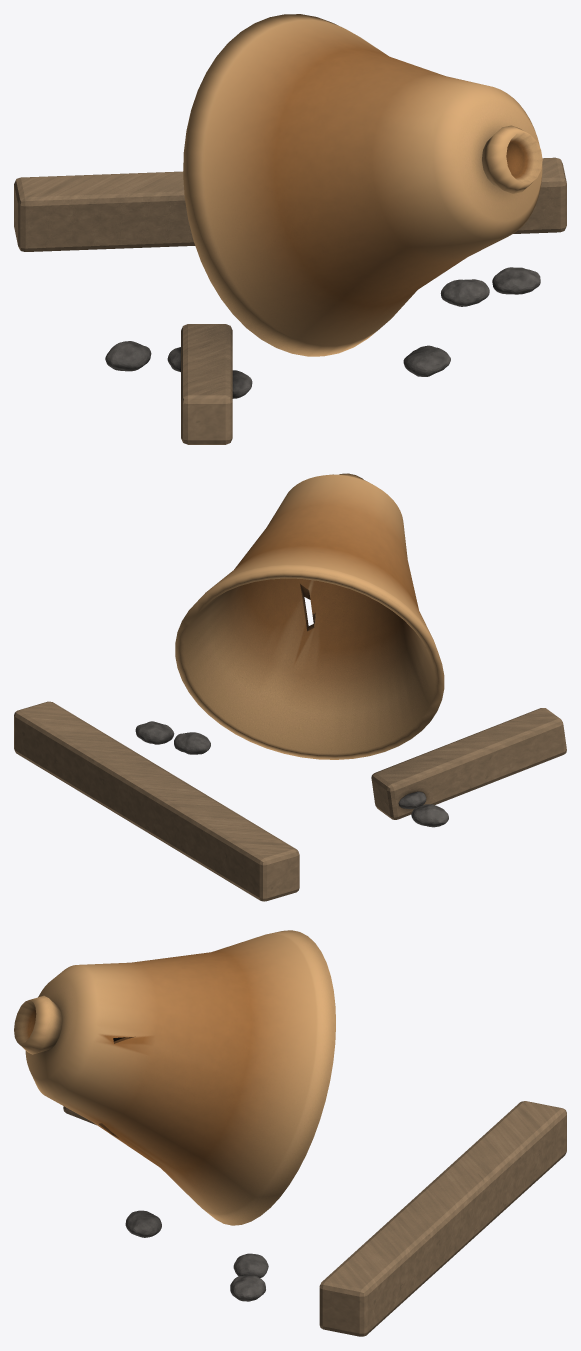
The model's file is dg_sino_rachado.glb.
The picture shows the model from 3 angles, top to bottom: view 1: azimuth 30°, elevation 25°; view 2: azimuth 150°, elevation 25°; view 3: azimuth 270°, elevation 25°; orthographic projection. The views are drawn at different scales.
Visible parts, largest first — view 1: dg_sino_rachado_tronco; view 2: dg_sino_rachado_tronco; view 3: dg_sino_rachado_tronco.
Boxes of the visible parts, x1,y1,x2,y2 form: dg_sino_rachado_tronco: (14, 14, 566, 444); dg_sino_rachado_tronco: (14, 473, 566, 901); dg_sino_rachado_tronco: (14, 930, 566, 1336).
Bounding box in the file's own units: 3.6 × 2.03 × 3.66.
Materials: 1 (1 with a texture image).
